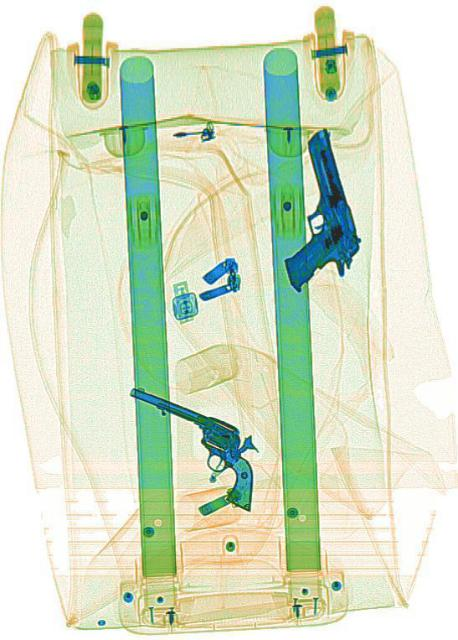Gun: (113, 380, 268, 510), (253, 123, 366, 299)
